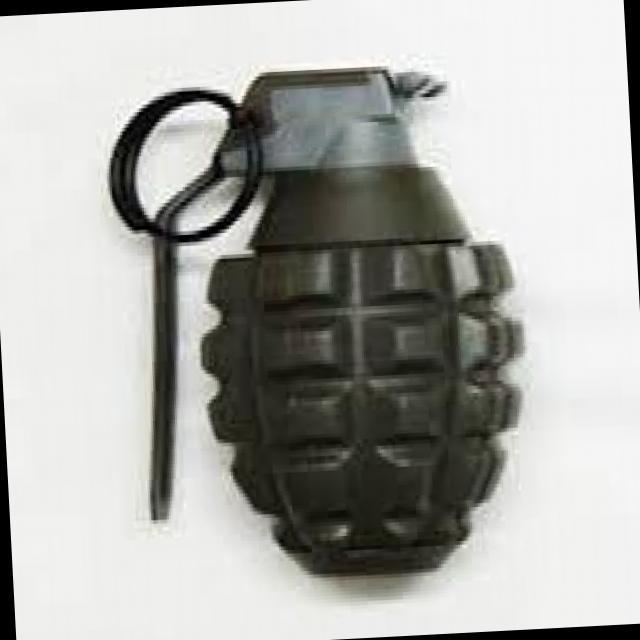grenade: (103, 36, 532, 590)
